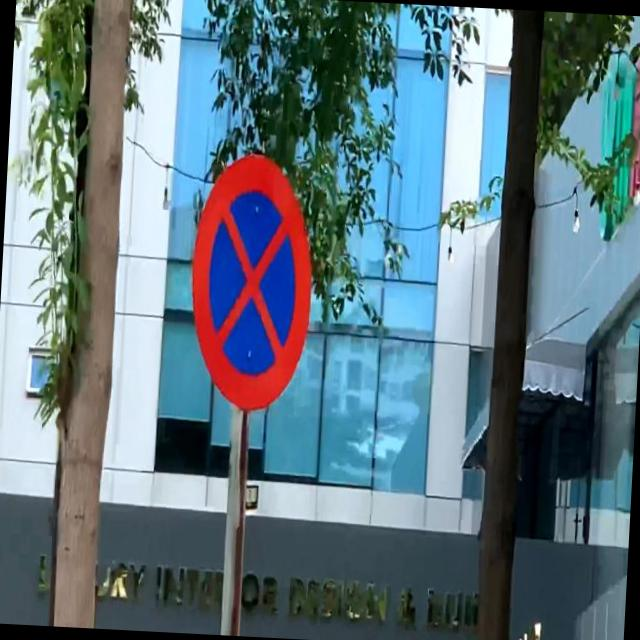P-130: (185, 152, 318, 408)
